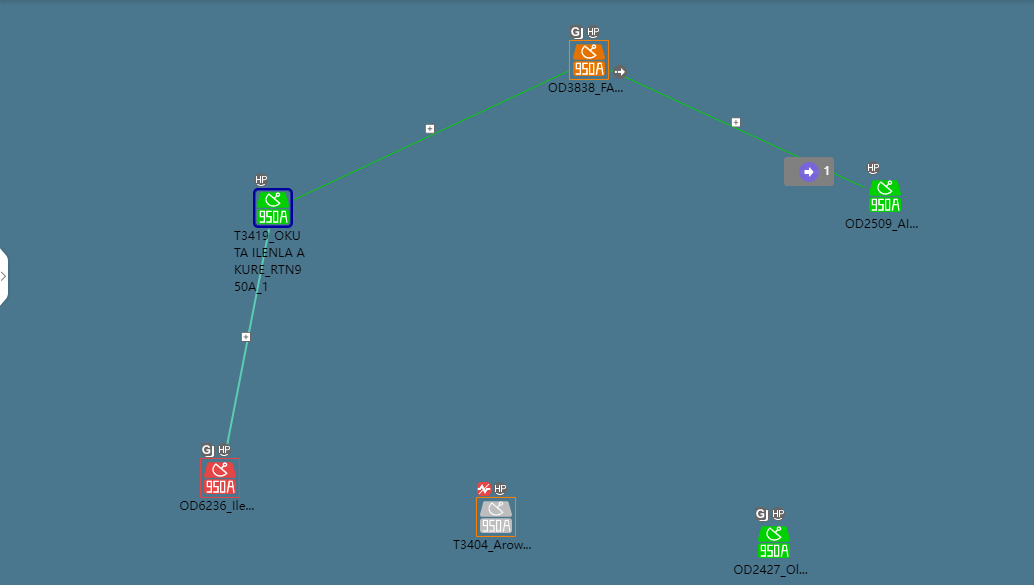Link_Blue: (223, 231, 273, 449)
Link_Green: (294, 70, 564, 204), (611, 70, 803, 155), (837, 173, 868, 189)
RTN_Gray: (481, 503, 519, 540)
RTN_Green: (255, 192, 292, 229), (869, 179, 900, 217), (759, 528, 788, 559)
RTN_Orange: (572, 44, 609, 81)
RTN_Red: (204, 464, 241, 501)
